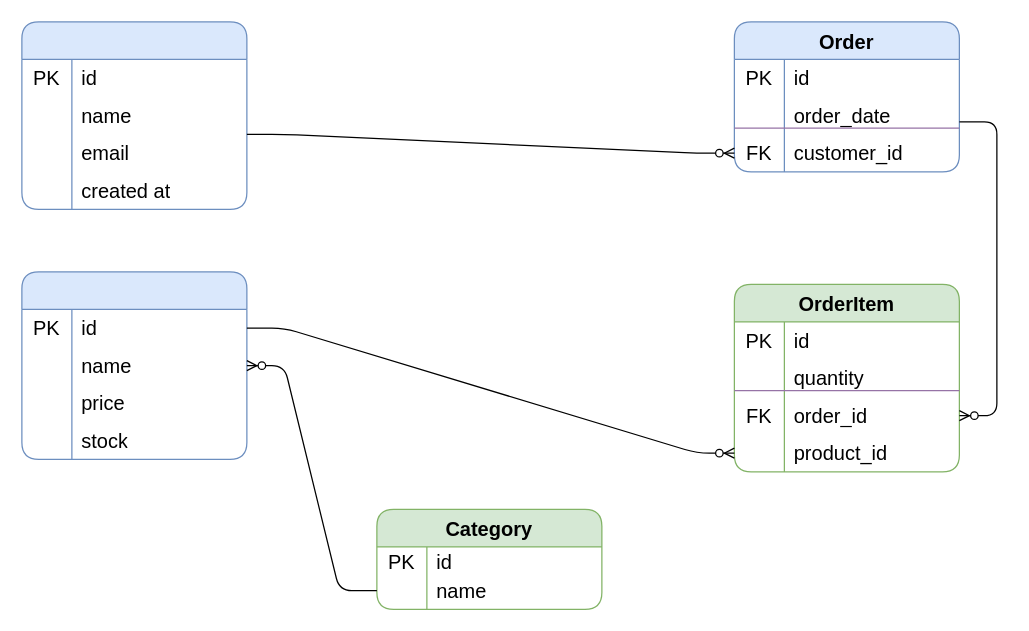
Image size: 1029x631. Some labels were removed from this diagram. The box of each missing label's shape, as (x1, y1, x2, y2) in pixels:
Customer: (21, 21, 247, 209)
Product: (21, 271, 247, 459)
